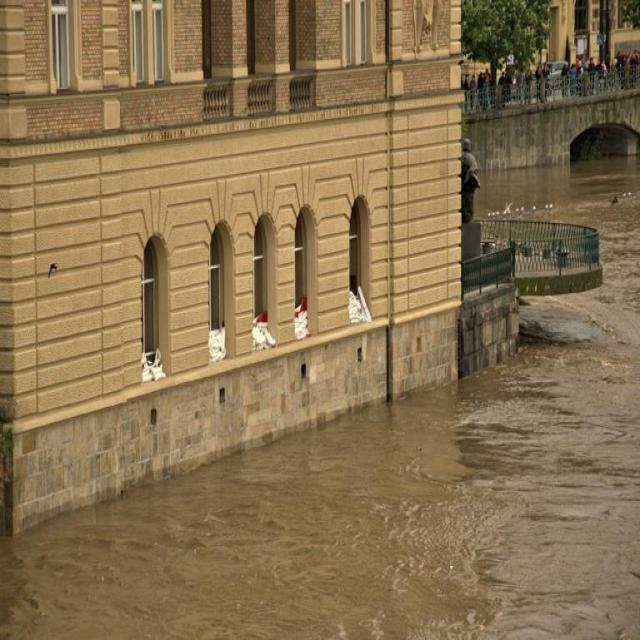flood: (1, 342, 640, 640)
